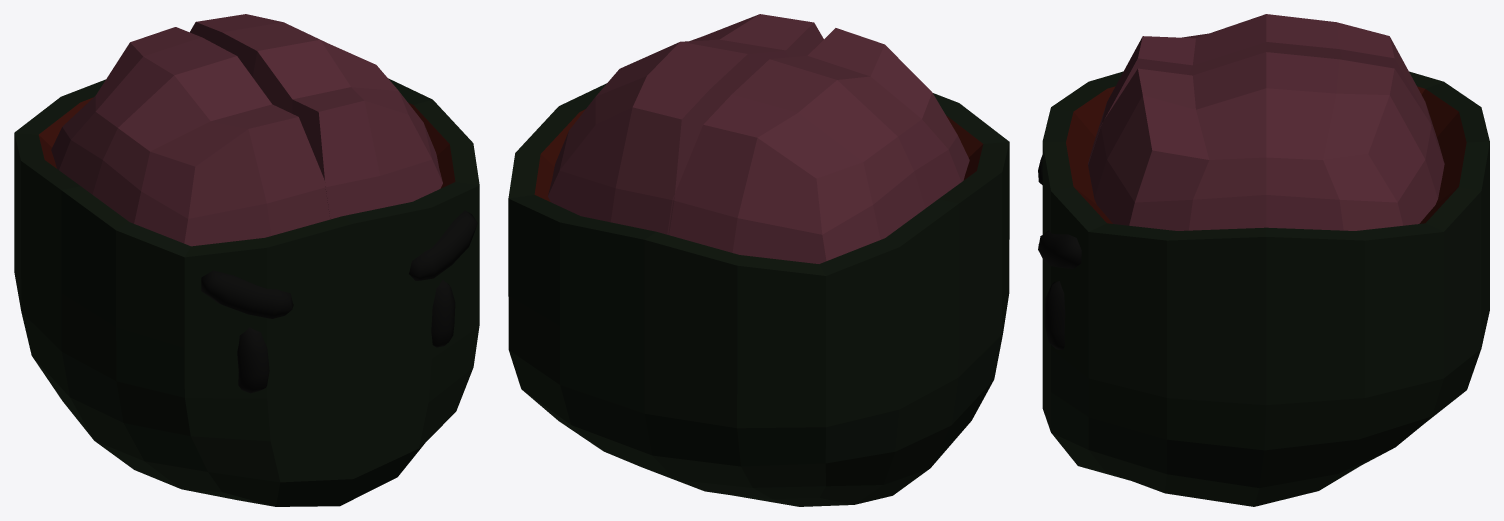
Rendered from Head_Zombie.FBX.
The picture shows the model from 3 angles, left to right: view 1: azimuth 30°, elevation 25°; view 2: azimuth 150°, elevation 25°; view 3: azimuth 270°, elevation 25°; orthographic projection. The views are drawn at different scales.
Visible parts, largest first — view 1: Body; view 2: Body; view 3: Body.
Boxes of the visible parts, x1,y1,x2,y2 form: Body: (14, 14, 479, 506); Body: (508, 14, 1009, 506); Body: (1038, 14, 1489, 506).
Size of the model in its own units: 38.71 by 39.96 by 39.1.
